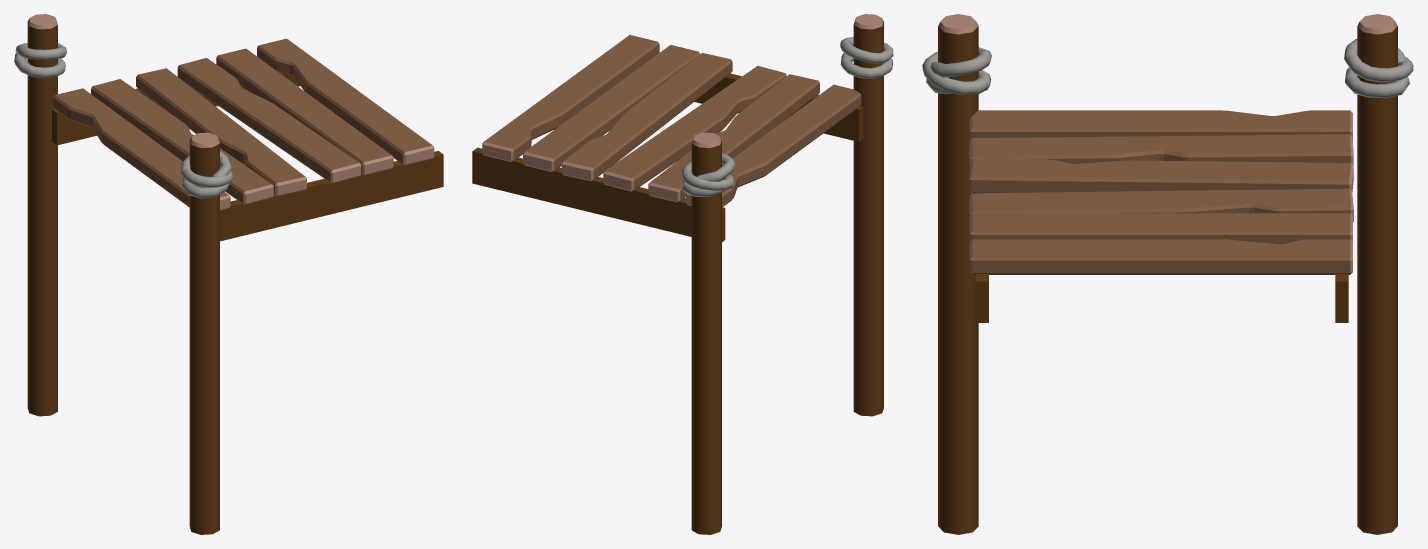
File: environment-dock.glb
3 views of the same model, side by side, from view 1: azimuth 30°, elevation 25°; view 2: azimuth 150°, elevation 25°; view 3: azimuth 270°, elevation 25° (orthographic). The views are drawn at different scales.
Visible parts, largest first — view 1: Environment_Dock; view 2: Environment_Dock; view 3: Environment_Dock.
Part boxes in pixels (bbox=[...]): Environment_Dock: bbox=[14, 14, 443, 534]; Environment_Dock: bbox=[472, 14, 893, 534]; Environment_Dock: bbox=[922, 14, 1413, 534].
Bounding box in the file's own units: 2.18 × 3.01 × 2.66.
1 material, 1 textured.
